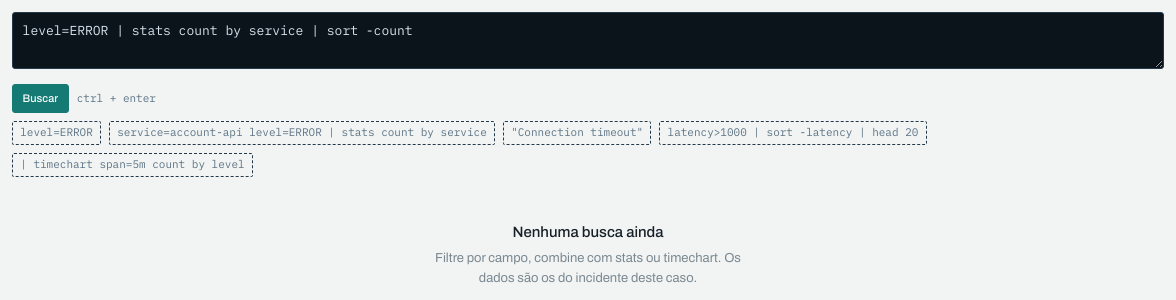
Test case: LogSearch › os exemplos preenchem e executam a consulta
Click the button "level=ERROR" at (56, 133), box [12, 121, 101, 145]
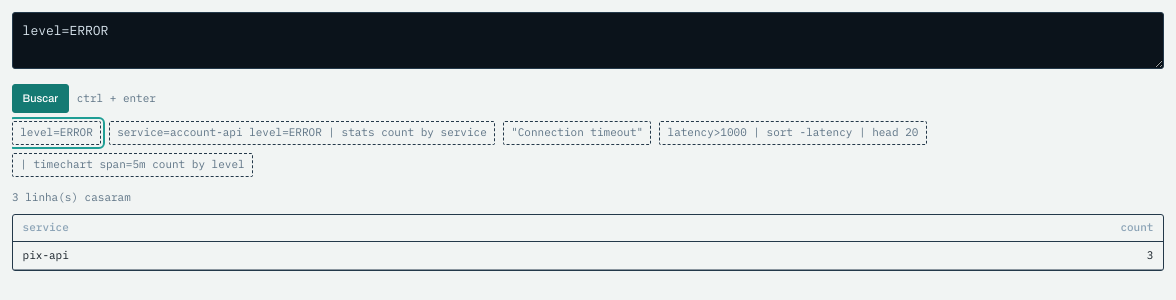
Now the text box named "Consulta de logs" holds "level=ERROR", box [12, 12, 1164, 69]
Now the table is shown, box [13, 215, 1163, 270]
